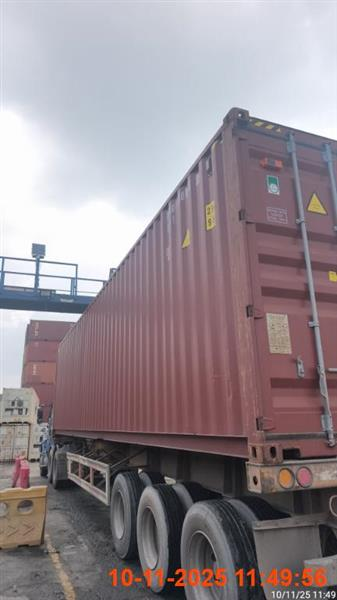hole: (23, 108, 335, 599), (11, 449, 30, 489)
